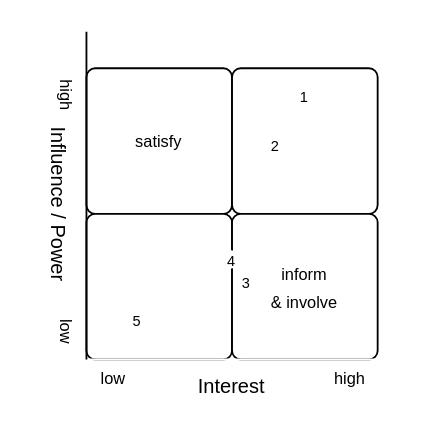
Some shapes in this 448 by 446 pixel diagram are drawn without their labels. The shapes that lost their labels are listed below. From the top down, each one's box as (x1, y1, x2, y2) in pixels, then its label:
(230, 66, 378, 214): intensively care for
(85, 212, 232, 359): observe (minimum effort)
